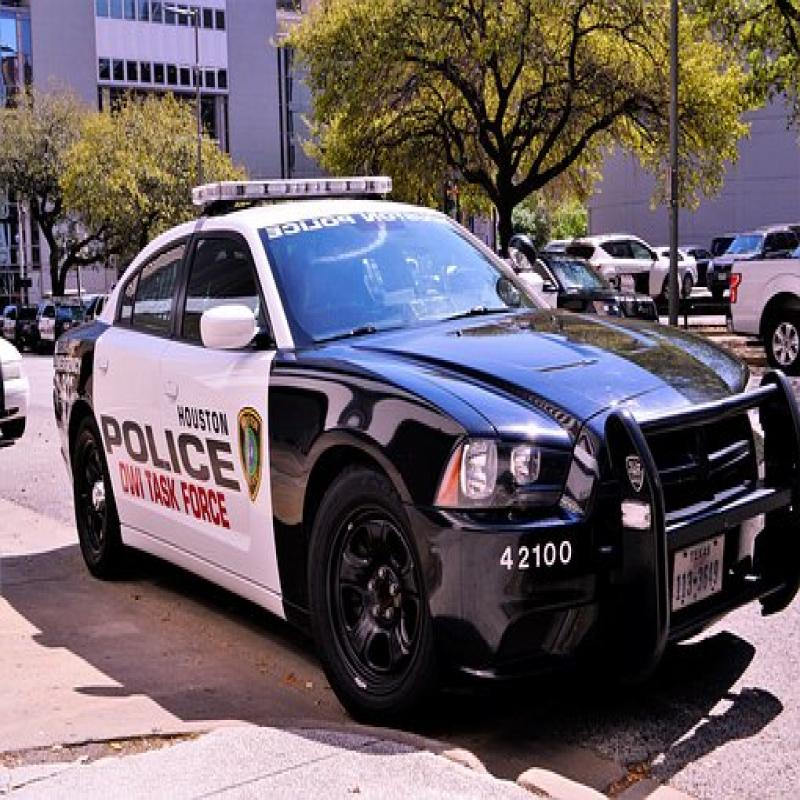AmbulanceSiren: (179, 149, 389, 209)
